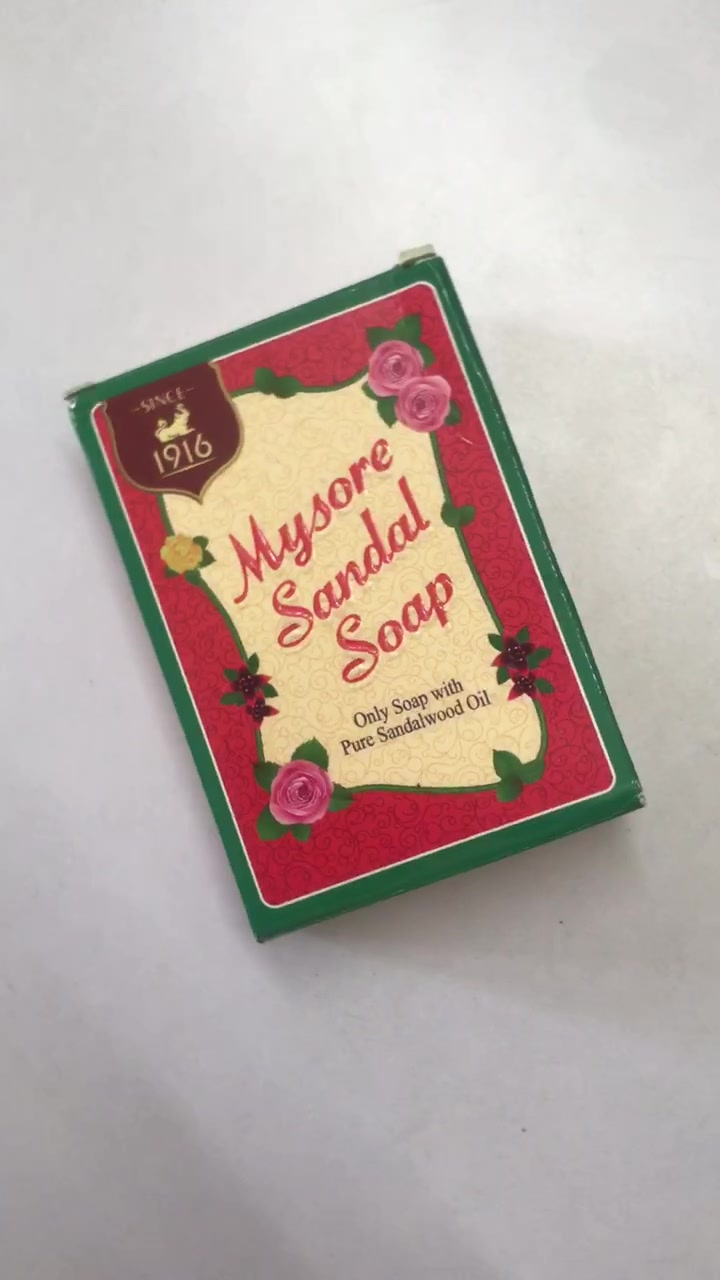mysore sandal soap: (73, 259, 641, 945)
